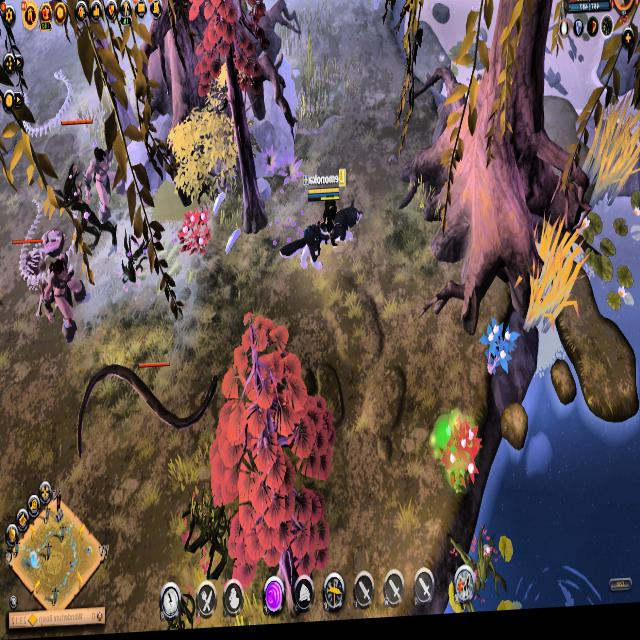fiber tier 4: (477, 321, 520, 393)
fiber tier 5: (432, 414, 483, 502), (177, 205, 213, 269)
wood tier 5: (209, 308, 333, 585)
